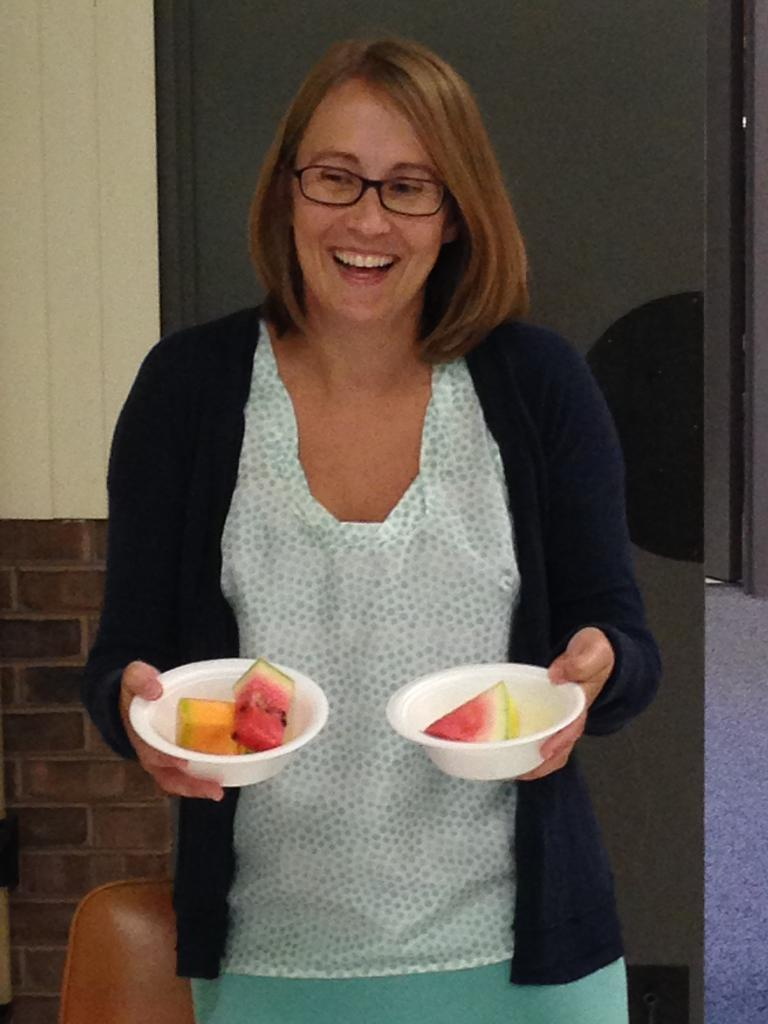Pessoa: (83, 38, 659, 1023)
